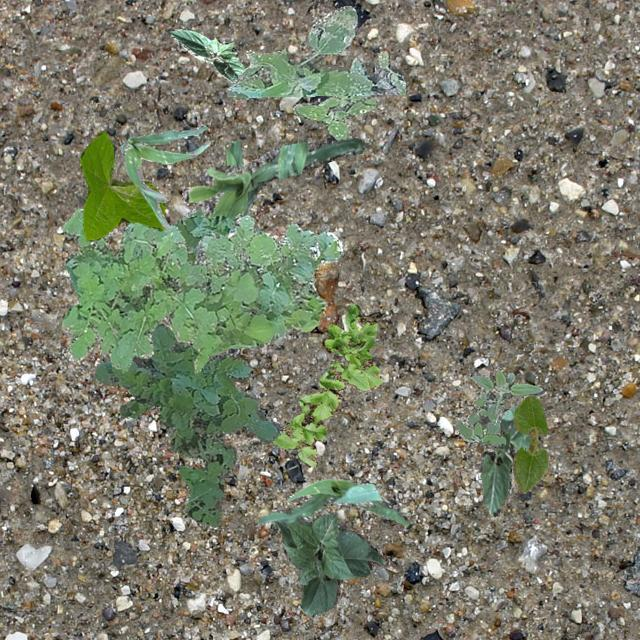crop: (182, 138, 366, 218), (270, 512, 384, 614), (118, 124, 210, 230), (80, 132, 164, 240), (177, 140, 241, 252), (256, 478, 408, 524), (480, 406, 530, 516), (167, 28, 244, 82), (512, 394, 548, 492)
weed: (92, 214, 282, 526), (61, 208, 342, 372), (270, 303, 380, 467), (224, 5, 404, 96), (454, 366, 544, 446), (292, 94, 378, 140)
